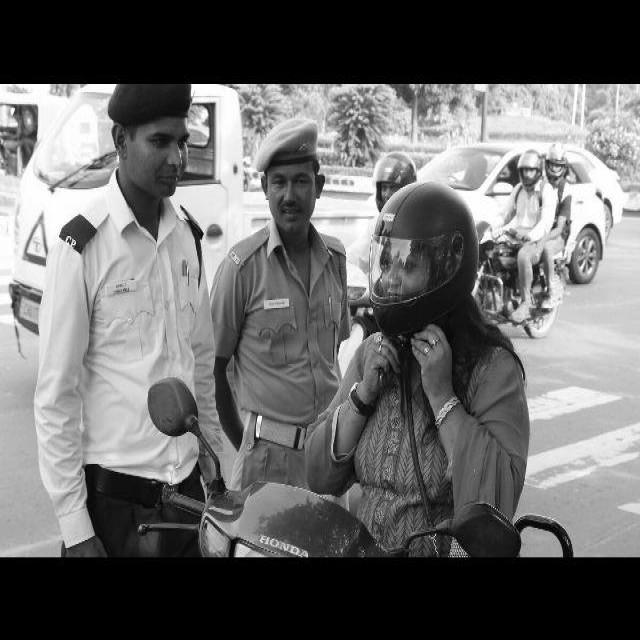5_casco: (368, 183, 480, 337)
